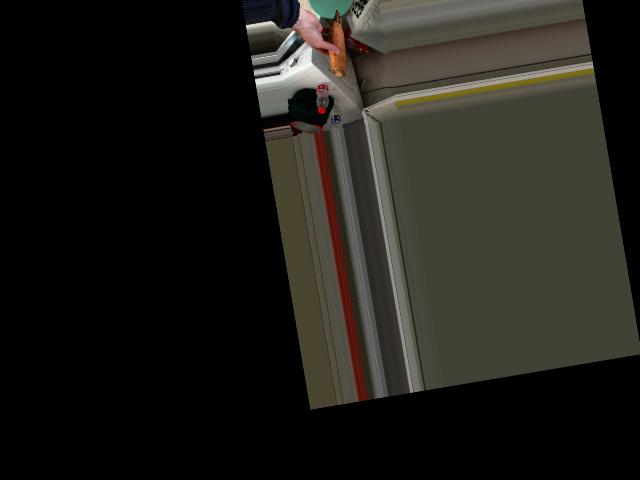sweet_potato: (316, 7, 355, 83)
